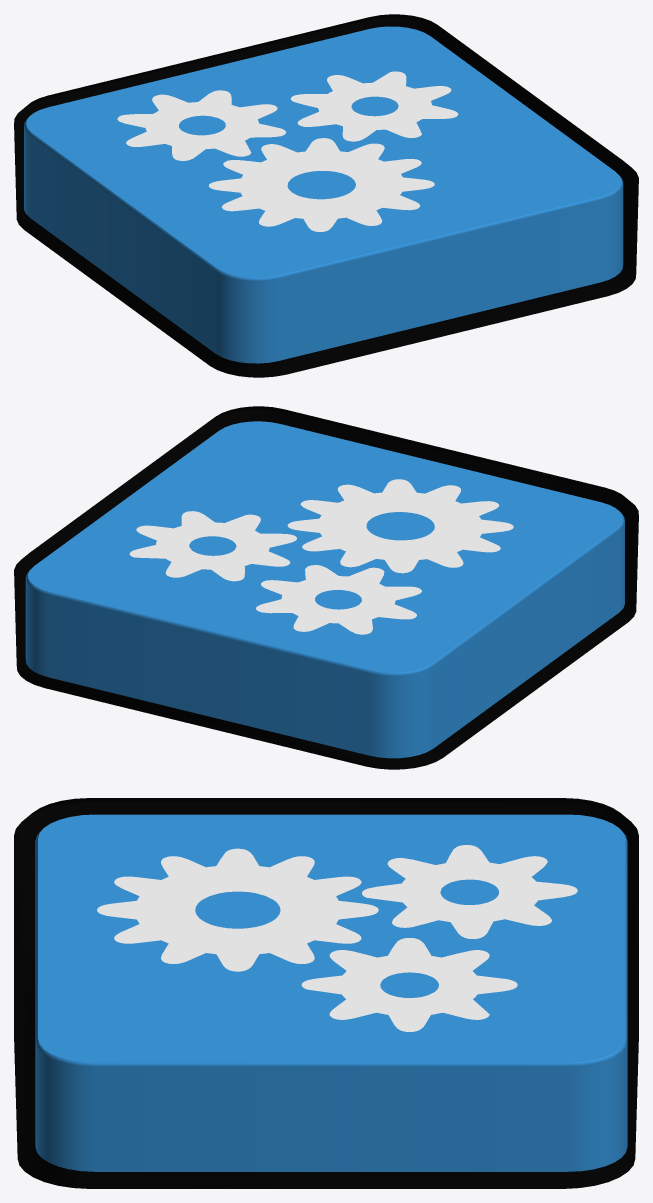
Rendered from Runtime.obj.
3 views of the same model, one above another, from view 1: azimuth 30°, elevation 25°; view 2: azimuth 150°, elevation 25°; view 3: azimuth 270°, elevation 25° (orthographic). The views are drawn at different scales.
Parts seen in each view (by area): view 1: Runtime; view 2: Runtime; view 3: Runtime.
Part boxes in pixels (bbox=[...]): Runtime: bbox=[14, 14, 638, 377]; Runtime: bbox=[14, 406, 638, 769]; Runtime: bbox=[14, 798, 638, 1188].
Bounding box in the file's own units: 1.06 × 0.2484 × 1.06.
